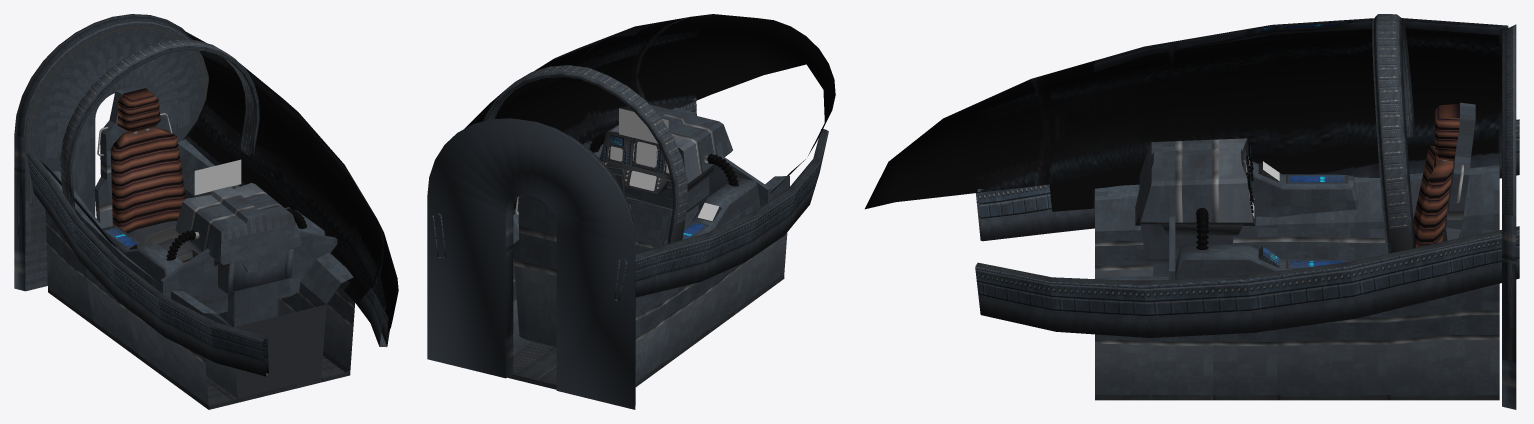
The model's file is BoltPit.fbx.
3 renders of one model, left to right at view 1: azimuth 30°, elevation 25°; view 2: azimuth 150°, elevation 25°; view 3: azimuth 270°, elevation 25°, orthographic. The views are drawn at different scales.
Visible parts, largest first — view 1: BoltPit; view 2: BoltPit; view 3: BoltPit.
Part boxes in pixels (x1,y1,x2,y2): BoltPit: (14,14,398,409); BoltPit: (427,14,835,409); BoltPit: (865,14,1519,409).
Bounding box in the file's own units: 415 × 487 × 873.
